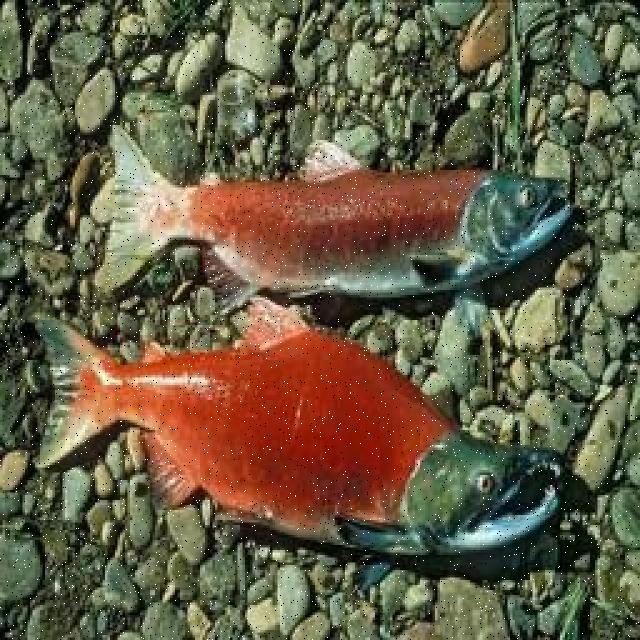fish: (36, 296, 570, 554), (94, 129, 572, 299)
